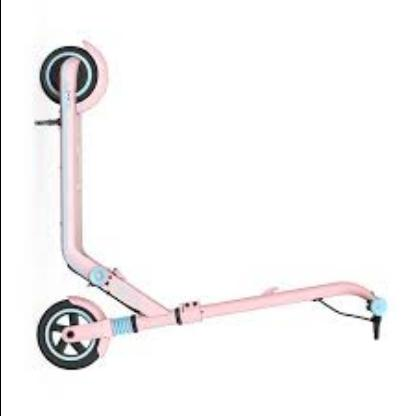bike: (36, 24, 393, 373)
